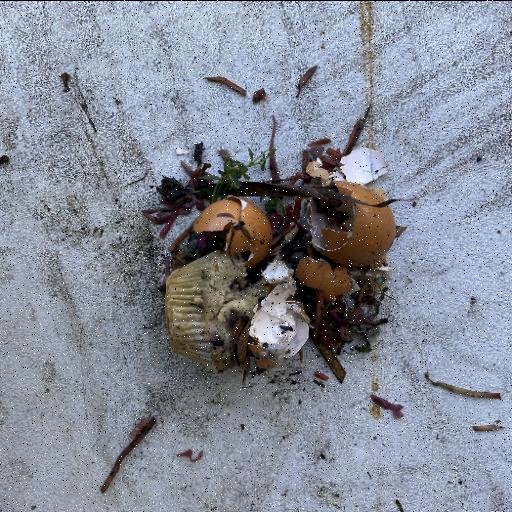Waste: (142, 122, 402, 386)
